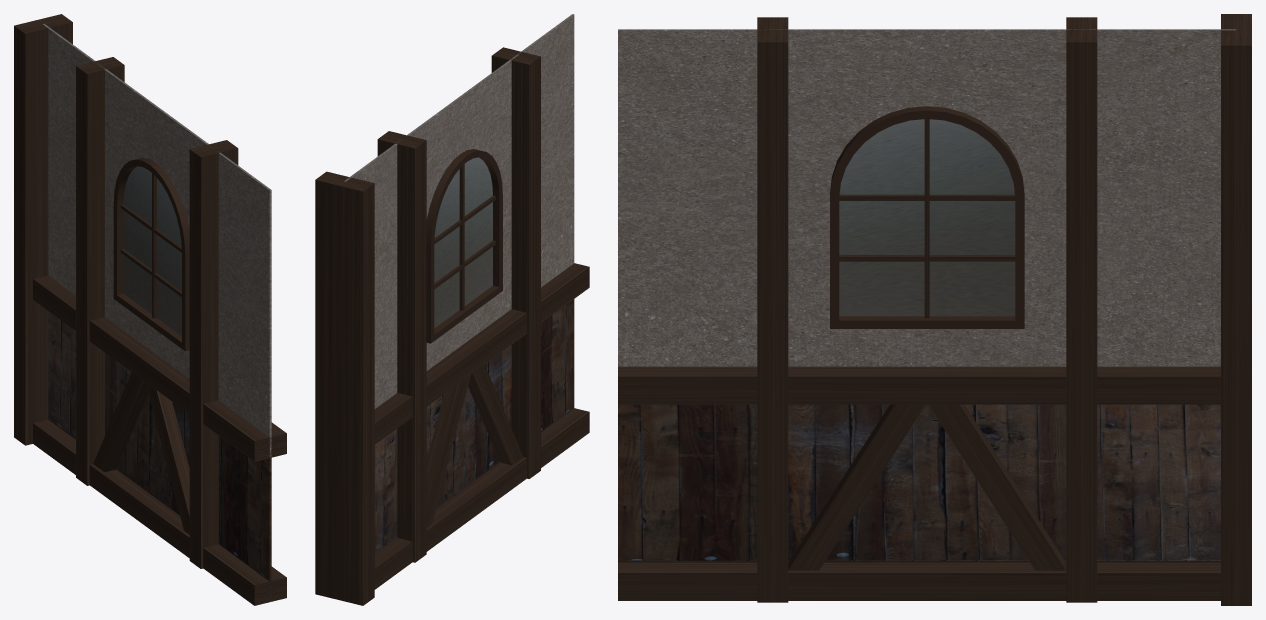
The model's file is OutdoorArchitecture_BasicWall02_Window01_RightEdge_BShortt.fbx.
3 renders of one model, left to right at view 1: azimuth 30°, elevation 25°; view 2: azimuth 150°, elevation 25°; view 3: azimuth 270°, elevation 25°, orthographic. The views are drawn at different scales.
Visible parts, largest first — view 1: OutdoorArchitecture_BasicWall02_Window01_RightEdge_BShortt; view 2: OutdoorArchitecture_BasicWall02_Window01_RightEdge_BShortt; view 3: OutdoorArchitecture_BasicWall02_Window01_RightEdge_BShortt.
Boxes of the visible parts, x1,y1,x2,y2 form: OutdoorArchitecture_BasicWall02_Window01_RightEdge_BShortt: (14, 14, 286, 605); OutdoorArchitecture_BasicWall02_Window01_RightEdge_BShortt: (315, 14, 589, 605); OutdoorArchitecture_BasicWall02_Window01_RightEdge_BShortt: (618, 14, 1251, 605).
Size of the model in its own units: 36.37 by 300 by 308.
